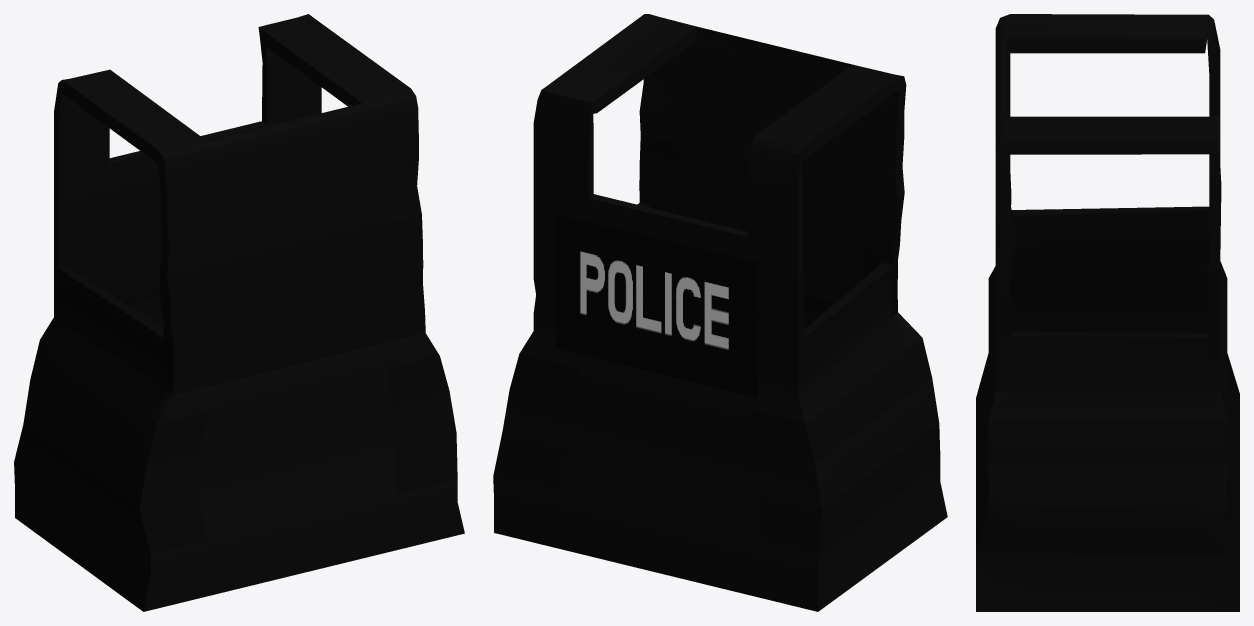
The model's file is police_vest.obj.
The picture shows the model from 3 angles, left to right: view 1: azimuth 30°, elevation 25°; view 2: azimuth 150°, elevation 25°; view 3: azimuth 270°, elevation 25°; orthographic projection. The views are drawn at different scales.
Parts seen in each view (by area): view 1: pPlane2; view 2: pPlane2; view 3: pPlane2.
Boxes of the visible parts, <box> form: pPlane2: <box>14,14,464,611</box>; pPlane2: <box>493,14,947,611</box>; pPlane2: <box>976,14,1239,611</box>.
Bounding box in the file's own units: 1.99 × 2.61 × 1.38.
